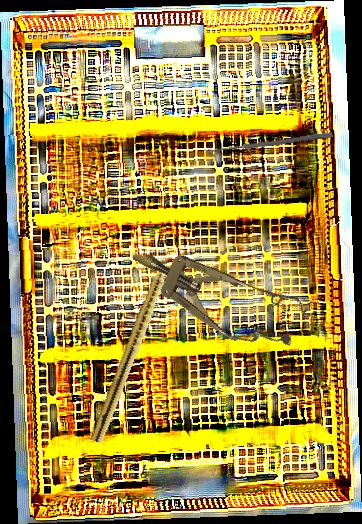Handpiece: (89, 253, 178, 446)
Speculum: (118, 224, 313, 364)
Surgical Spoon: (204, 131, 333, 155)
